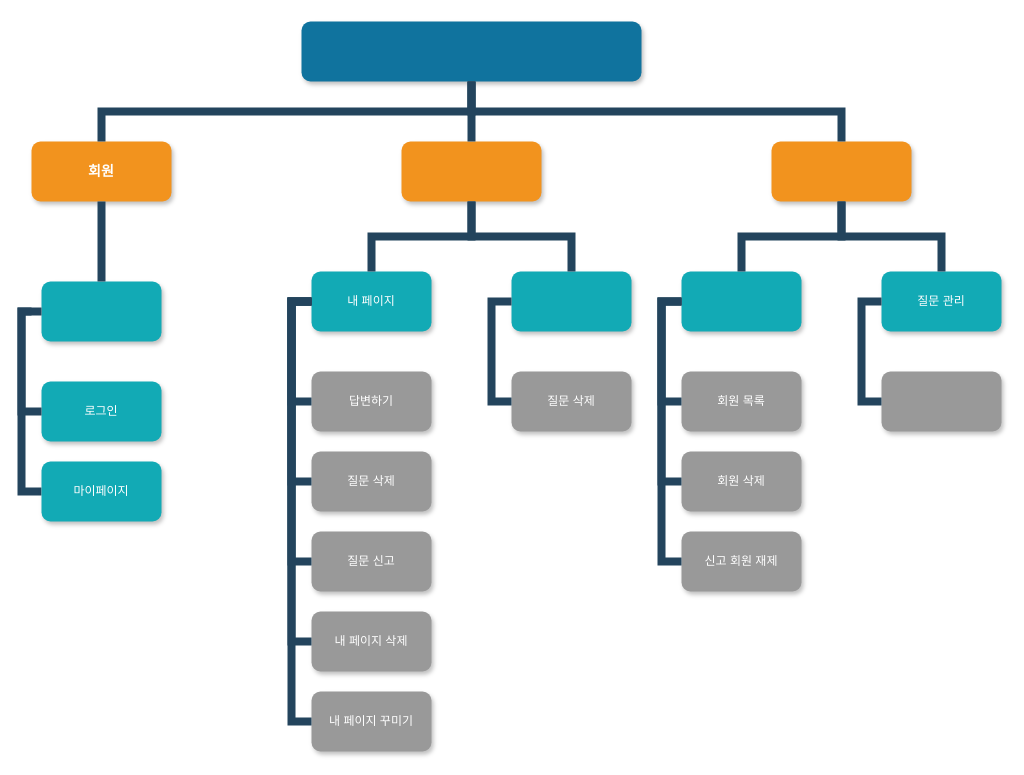
This 1024x775 diagram has some shape labels left out. Here are the shapes that lost their labels. From the top down, the centre of each, then its label:
At point 472,52: "익명 Q&A".
At point 472,172: "Q & A".
At point 842,172: "관리자".
At point 102,312: "회원가입".
At point 572,302: "내가 보낸 질문".
At point 742,302: "회원 관리".
At point 942,402: "신고된 질문 삭제".
